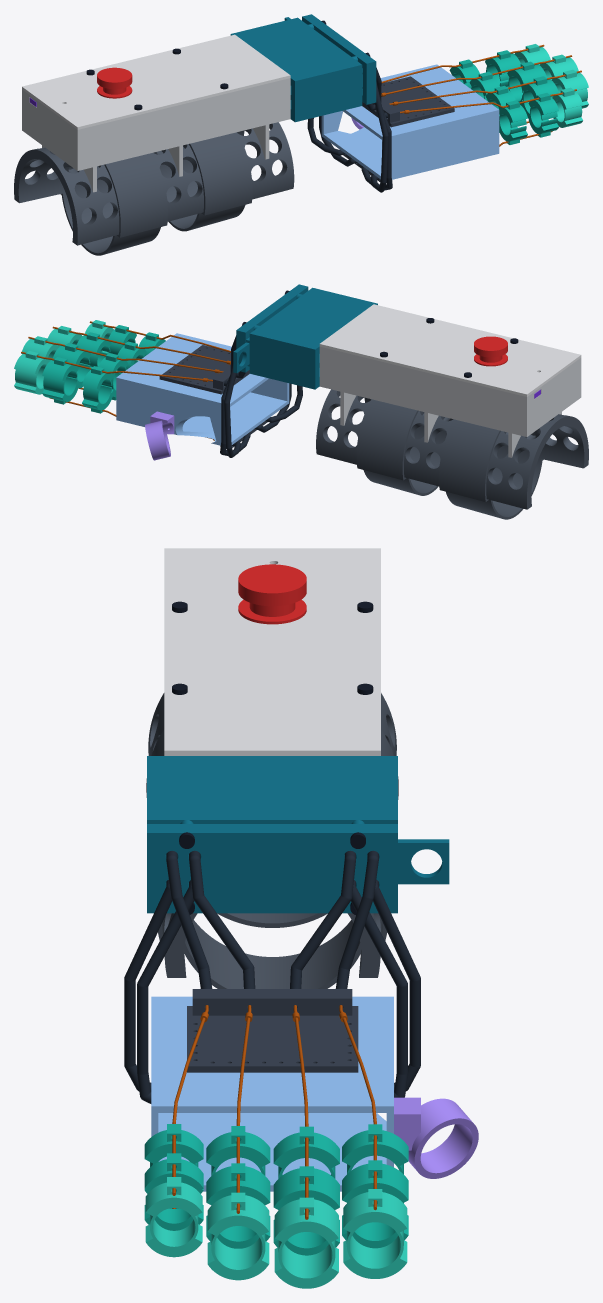
3 renders of one model, top to bottom at view 1: azimuth 30°, elevation 25°; view 2: azimuth 150°, elevation 25°; view 3: azimuth 270°, elevation 25°, orthographic. The views are drawn at different scales.
Visible parts, largest first — view 1: Forearm cuff, Pack base, Pack lid, Base glove, Sheath anchor block, Finger cuffs (8), Fingertip thimbles (4), Dorsal plate, Bowden sheaths (8), Tendons (8), Emergency stop; view 2: Forearm cuff, Pack base, Pack lid, Base glove, Sheath anchor block, Finger cuffs (8), Fingertip thimbles (4), Dorsal plate, Bowden sheaths (8), Tendons (8), Thumb spacer, Emergency stop; view 3: Pack lid, Sheath anchor block, Base glove, Finger cuffs (8), Bowden sheaths (8), Fingertip thimbles (4), Dorsal plate, Forearm cuff, Thumb spacer, Emergency stop, Tendons (8), Screws, inserts and pins.
Boxes of the visible parts, left/top/right/bottom form: Forearm cuff: left=14, top=122, right=294, bottom=255; Pack base: left=22, top=78, right=290, bottom=192; Pack lid: left=22, top=34, right=290, bottom=129; Base glove: left=321, top=64, right=499, bottom=179; Sheath anchor block: left=230, top=14, right=376, bottom=122; Finger cuffs (8): left=449, top=50, right=558, bottom=144; Fingertip thimbles (4): left=514, top=44, right=588, bottom=127; Dorsal plate: left=362, top=76, right=454, bottom=127; Bowden sheaths (8): left=307, top=67, right=392, bottom=192; Tendons (8): left=381, top=44, right=581, bottom=146; Emergency stop: left=97, top=67, right=132, bottom=98; Forearm cuff: left=316, top=389, right=588, bottom=519; Pack base: left=319, top=346, right=581, bottom=457; Pack lid: left=319, top=304, right=581, bottom=396; Base glove: left=116, top=333, right=289, bottom=445; Sheath anchor block: left=233, top=284, right=377, bottom=389; Finger cuffs (8): left=42, top=325, right=165, bottom=413; Fingertip thimbles (4): left=14, top=320, right=113, bottom=394; Dorsal plate: left=159, top=345, right=249, bottom=394; Bowden sheaths (8): left=220, top=335, right=302, bottom=457; Tendons (8): left=21, top=321, right=230, bottom=440; Thumb spacer: left=145, top=411, right=174, bottom=460; Emergency stop: left=474, top=336, right=507, bottom=366; Pack lid: left=164, top=548, right=380, bottom=755; Sheath anchor block: left=147, top=756, right=449, bottom=913; Base glove: left=151, top=996, right=393, bottom=1191; Finger cuffs (8): left=144, top=1124, right=408, bottom=1255; Bowden sheaths (8): left=124, top=850, right=420, bottom=1103; Fingertip thimbles (4): left=145, top=1177, right=407, bottom=1288; Dorsal plate: left=187, top=989, right=358, bottom=1072; Forearm cuff: left=146, top=693, right=398, bottom=988; Thumb spacer: left=394, top=1097, right=478, bottom=1178; Emergency stop: left=238, top=564, right=306, bottom=624; Tendons (8): left=172, top=1005, right=376, bottom=1219; Screws, inserts and pins: left=172, top=601, right=373, bottom=914.
Size of the model in its own units: 0.4215 by 0.1282 by 0.1243.
